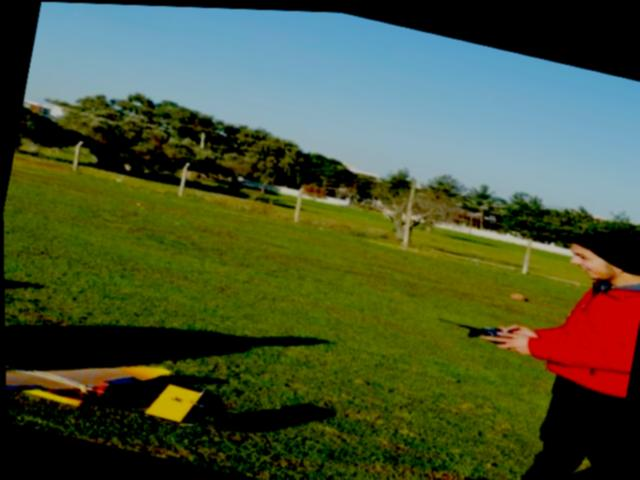iha: (4, 309, 231, 454)
